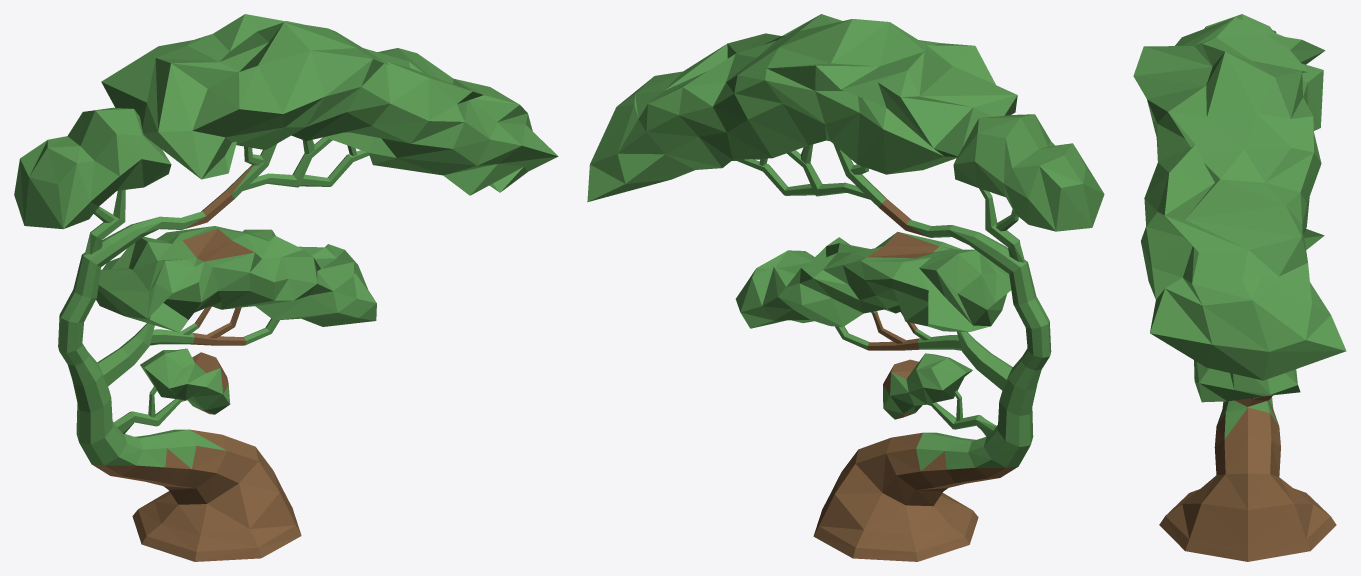
Rendered from tree3d-062.glb.
3 renders of one model, left to right at view 1: azimuth 30°, elevation 25°; view 2: azimuth 150°, elevation 25°; view 3: azimuth 270°, elevation 25°, orthographic. The views are drawn at different scales.
Parts seen in each view (by area): view 1: tree3d-062; view 2: tree3d-062; view 3: tree3d-062.
Boxes of the visible parts, bbox=[...] form: tree3d-062: bbox=[14, 14, 558, 561]; tree3d-062: bbox=[587, 14, 1104, 561]; tree3d-062: bbox=[1133, 14, 1346, 561].
Bounding box in the file's own units: 1.04 × 1 × 0.3859.
